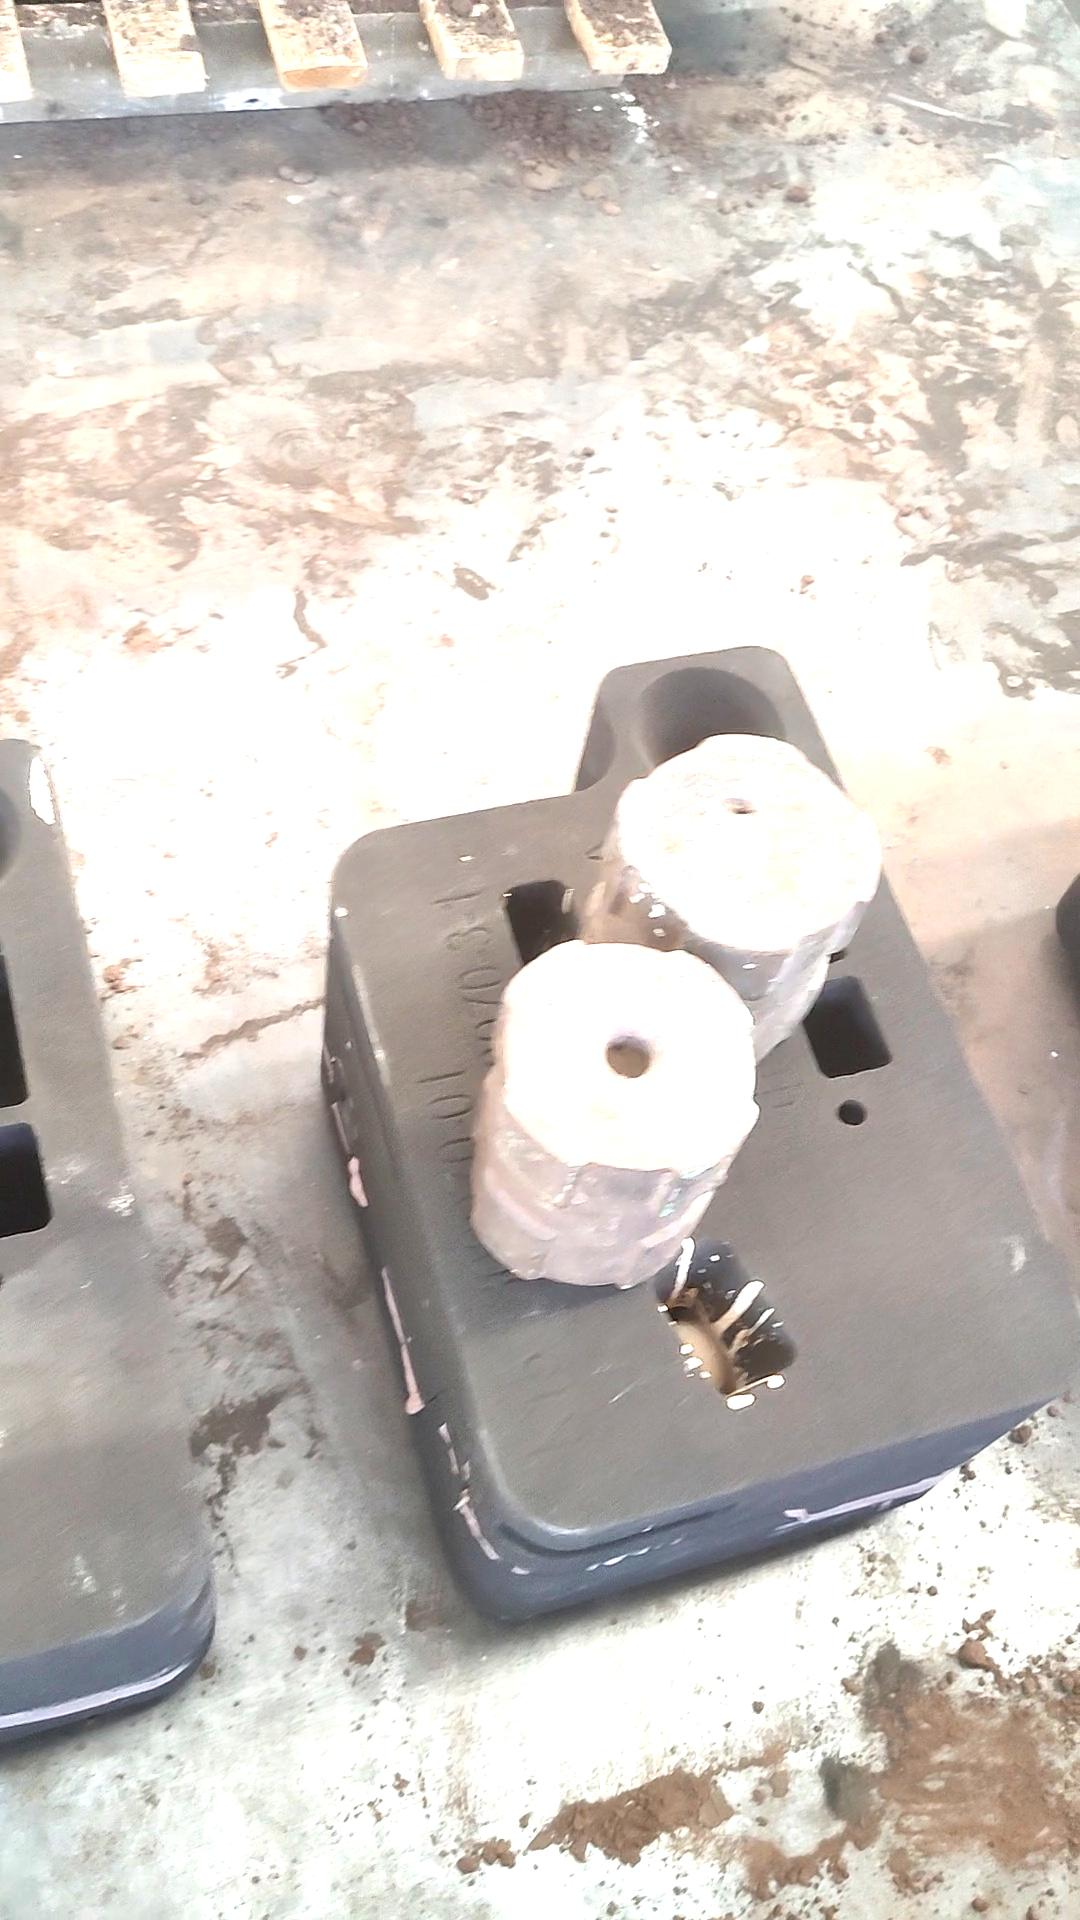pouring hole: (633, 666, 795, 796), (1, 790, 24, 893)
